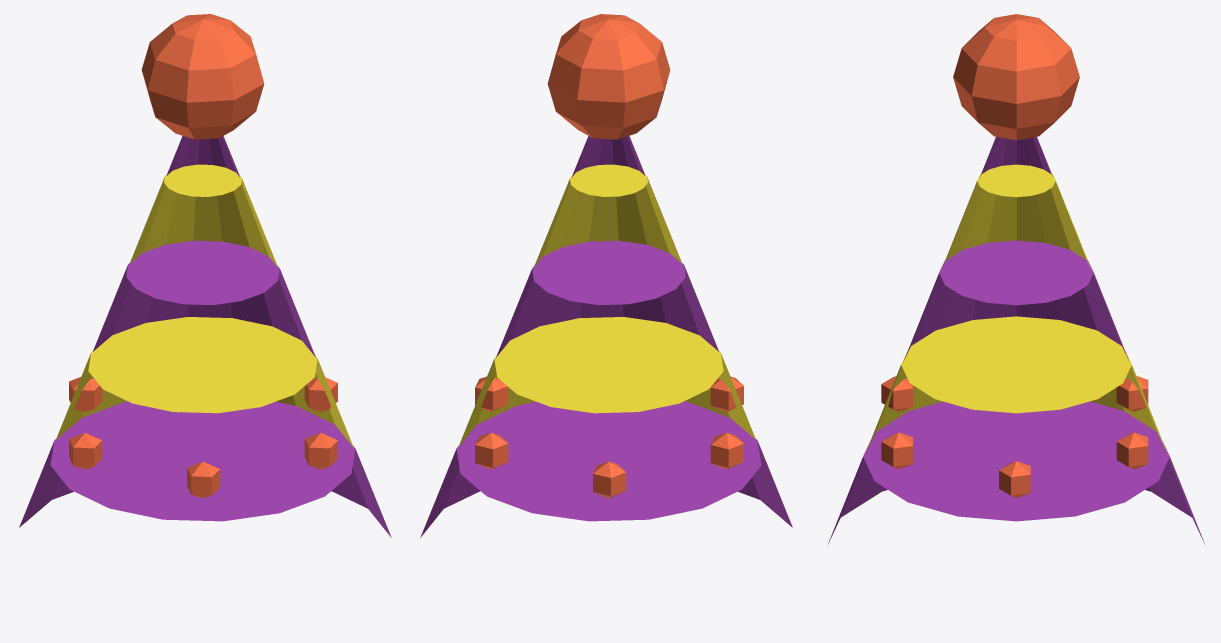
The model's file is festhatt.glb.
3 renders of one model, left to right at view 1: azimuth 30°, elevation 25°; view 2: azimuth 150°, elevation 25°; view 3: azimuth 270°, elevation 25°, orthographic.
Visible parts, largest first — view 1: festhatt; view 2: festhatt; view 3: festhatt.
Boxes of the visible parts, bbox=[...] form: festhatt: bbox=[19, 14, 391, 537]; festhatt: bbox=[420, 14, 792, 537]; festhatt: bbox=[828, 14, 1204, 543].
Size of the model in its own units: 0.3 by 0.46 by 0.3.
